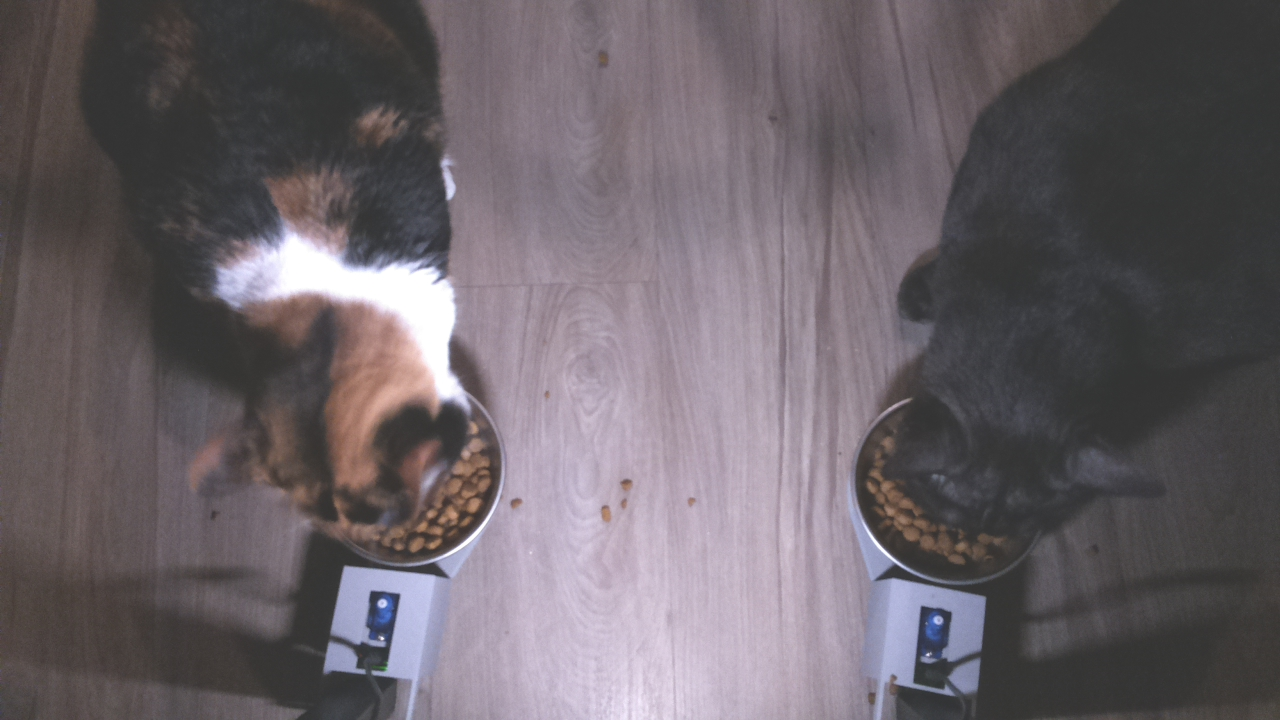bella_eating: (163, 286, 511, 569)
saki_eating: (848, 341, 1186, 593)
